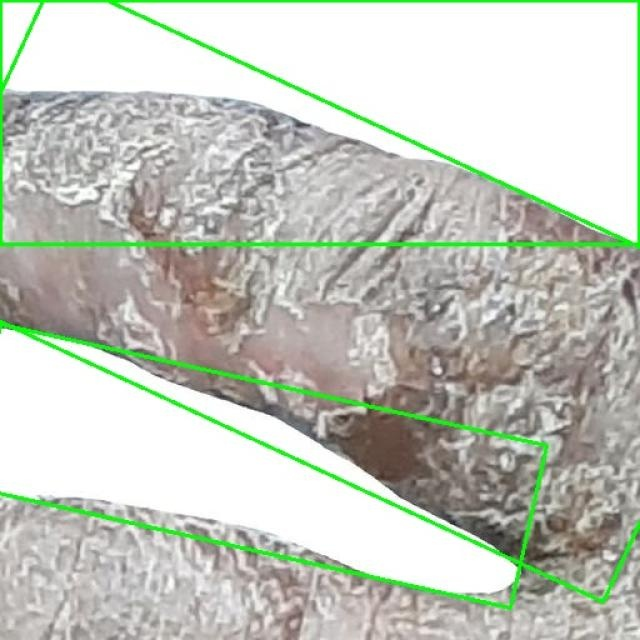Eczema: (0, 0, 640, 602), (0, 317, 549, 608), (0, 0, 639, 244)
